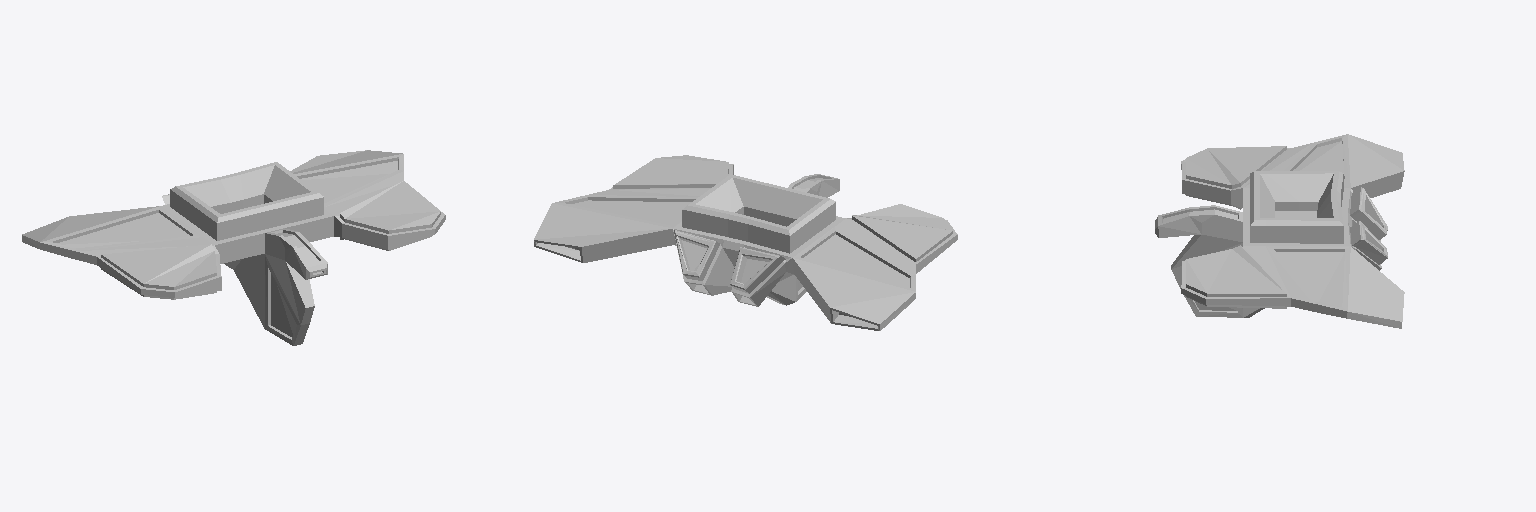
Rendered from spaceRand_02.obj.
The picture shows the model from 3 angles: view 1: azimuth 30°, elevation 25°; view 2: azimuth 150°, elevation 25°; view 3: azimuth 270°, elevation 25°; orthographic projection.
Parts seen in each view (by area): view 1: spaceRand_02 randSpace_grp; view 2: spaceRand_02 randSpace_grp; view 3: spaceRand_02 randSpace_grp.
Part boxes in pixels (x1,y1,x2,y2): spaceRand_02 randSpace_grp: (22, 150, 445, 345); spaceRand_02 randSpace_grp: (534, 155, 957, 330); spaceRand_02 randSpace_grp: (1155, 134, 1404, 328).
Bounding box in the file's own units: 1366 × 431 × 810.